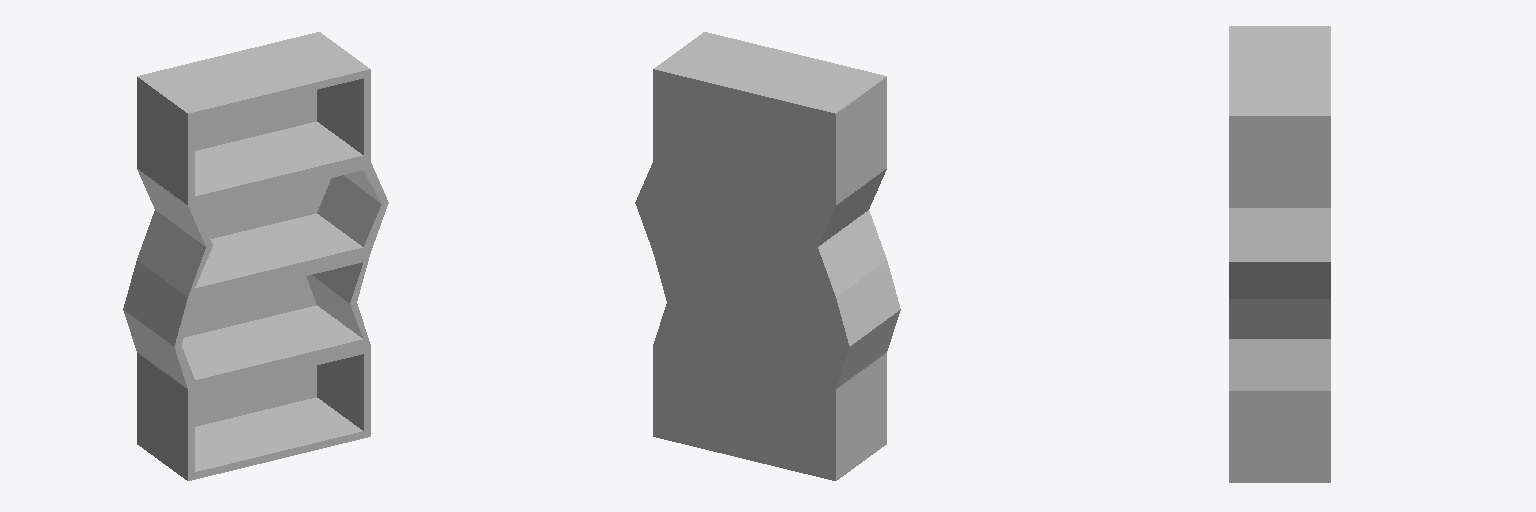
Rendered from shelfdéformée.obj.
The picture shows the model from 3 angles: view 1: azimuth 30°, elevation 25°; view 2: azimuth 150°, elevation 25°; view 3: azimuth 270°, elevation 25°; orthographic projection.
Parts seen in each view (by area): view 1: Cube_Cube.001; view 2: Cube_Cube.001; view 3: Cube_Cube.001.
Part boxes in pixels (bbox=[...]): Cube_Cube.001: bbox=[123, 32, 388, 480]; Cube_Cube.001: bbox=[635, 32, 900, 480]; Cube_Cube.001: bbox=[1229, 26, 1330, 482].
Size of the model in its own units: 2.35 by 3.85 by 0.9712.